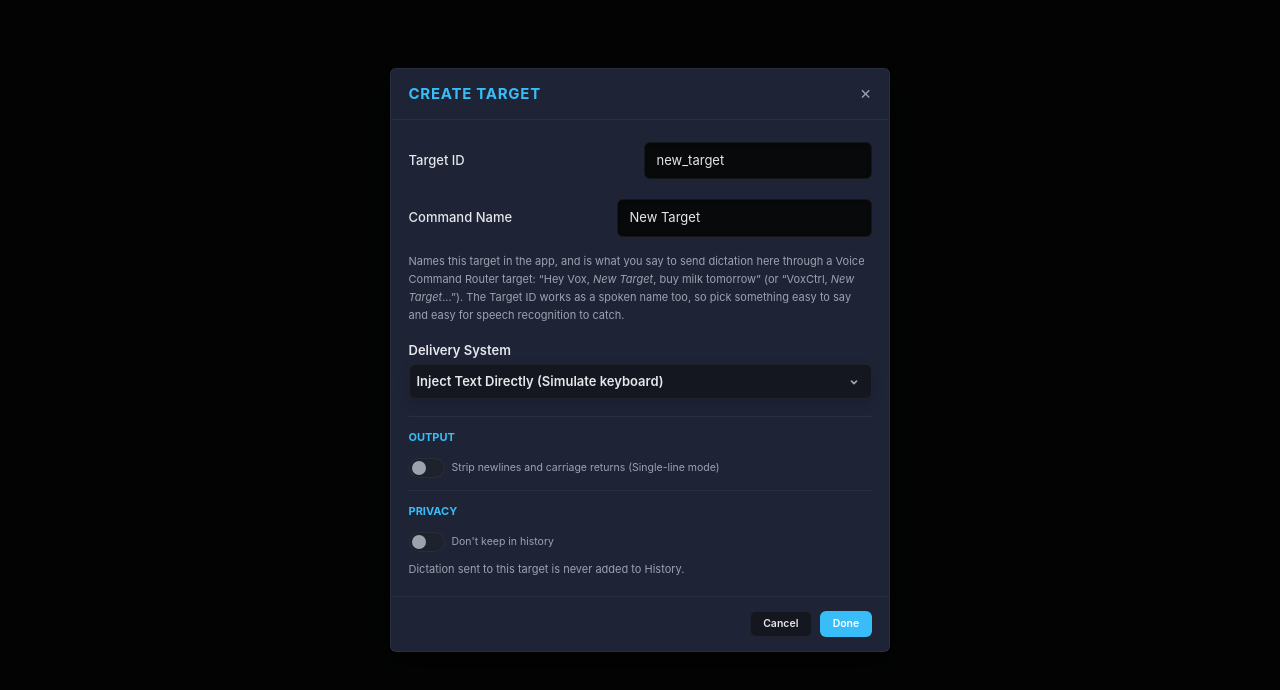
TargetEditorModal delivery selector › lists Voice Command Router first
The width and height of the screenshot is (1280, 690).
Click the button with class "custom-select-trigger" at coordinates (640, 382), box [408,364,872,399]
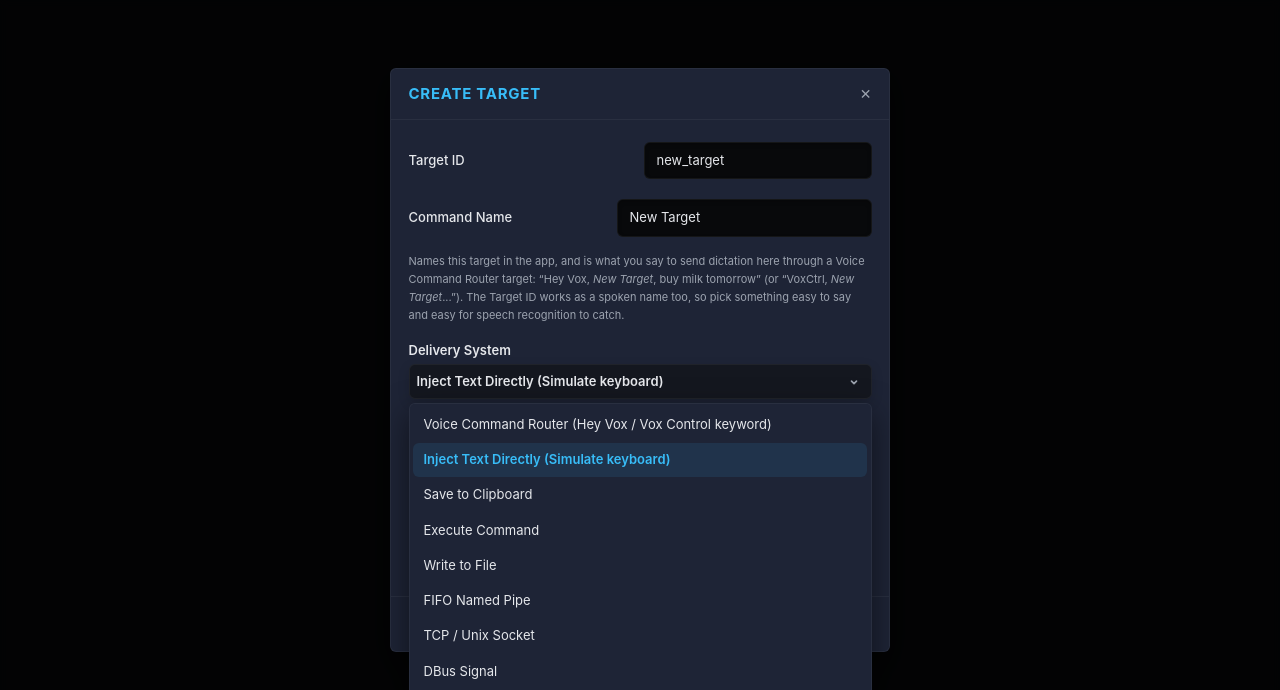
Result: the button "Voice Command Router (Hey Vox / Vox Control keyword)" is shown at [413,408,867,441]
